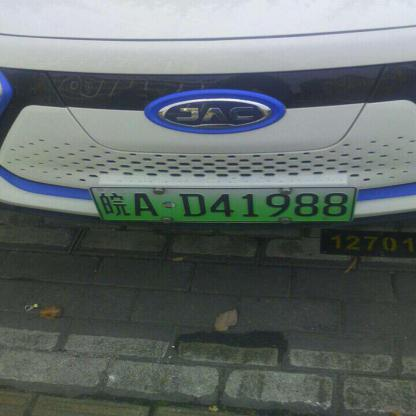lp: (90, 186, 355, 220)
